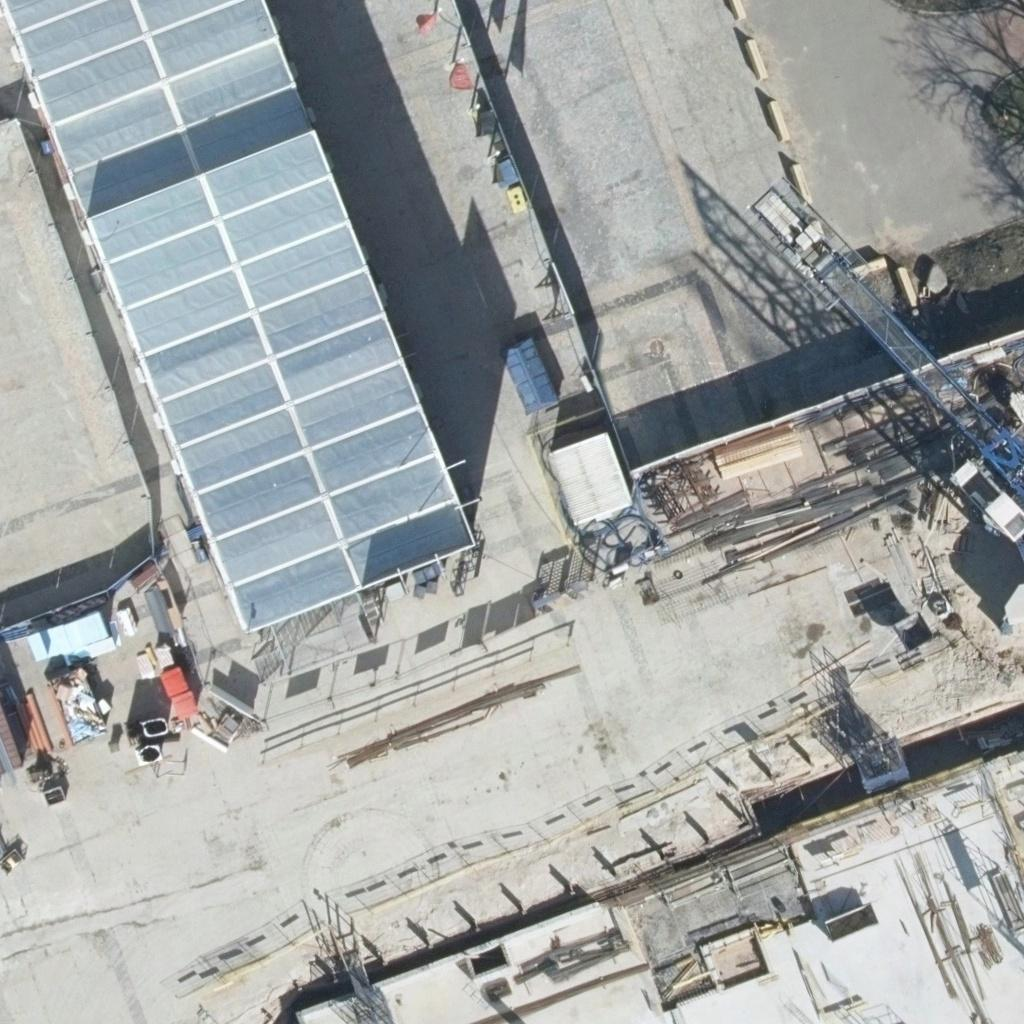zuraw_wiezowy: (743, 180, 1023, 541)
